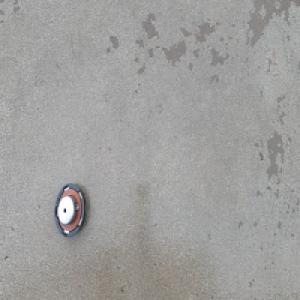FuelCap: (54, 181, 86, 241)
